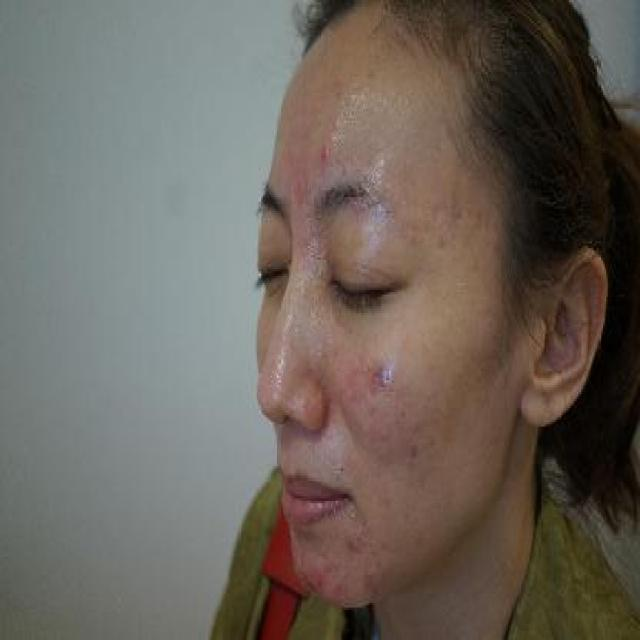dark spot: (406, 438, 426, 466)
papules: (368, 350, 400, 394), (311, 134, 338, 172), (342, 529, 366, 559)
